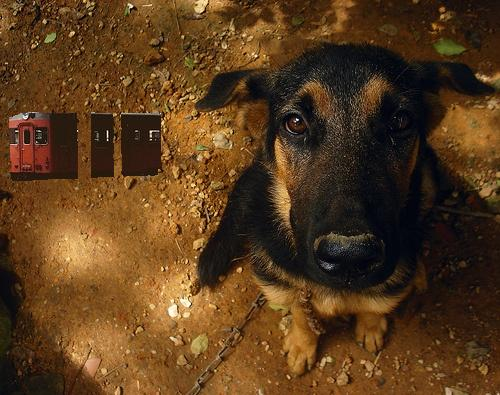tampered: (10, 113, 162, 181)
